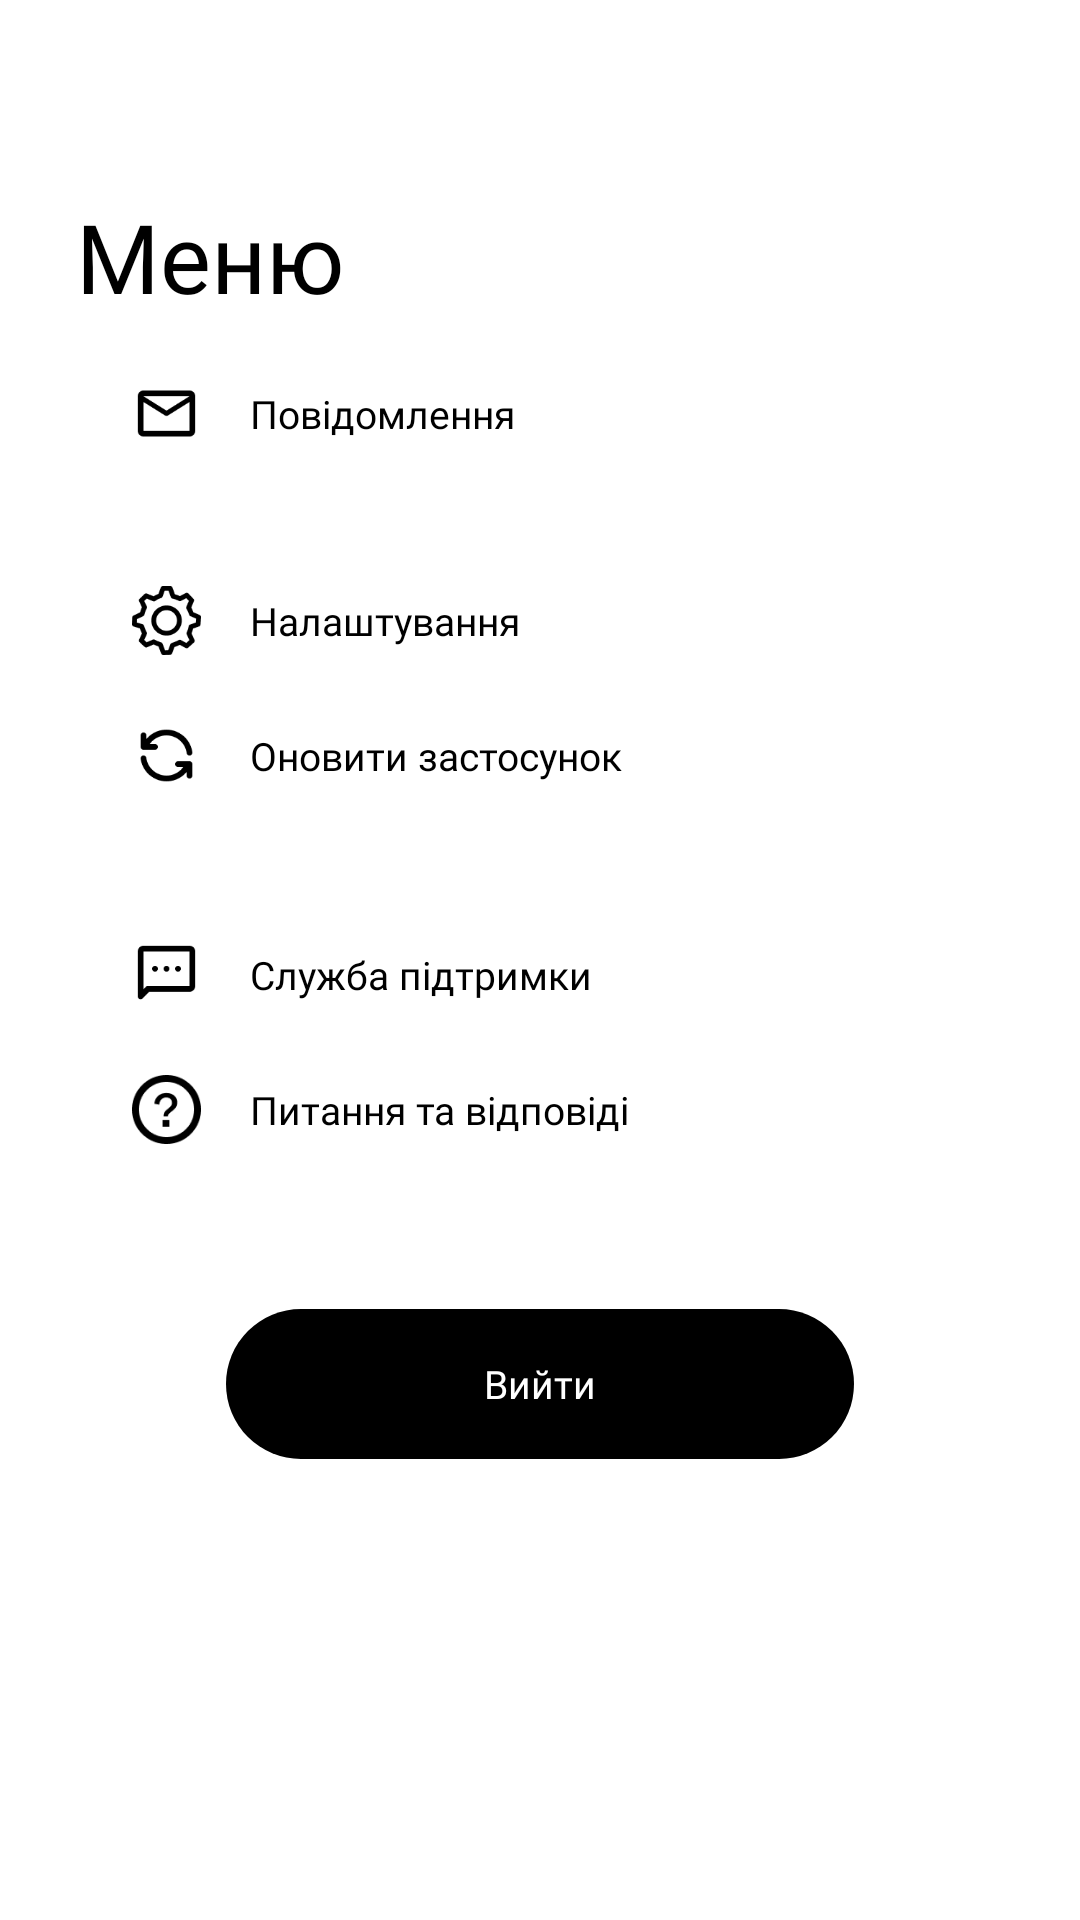

Where icons sit on this 1080*1920 app screen, as (x1, y1, x2, y2):
mail: (137, 390, 196, 437)
question: (132, 1075, 201, 1144)
settings: (132, 586, 201, 655)
support: (137, 945, 196, 1000)
update app: (140, 729, 193, 782)
